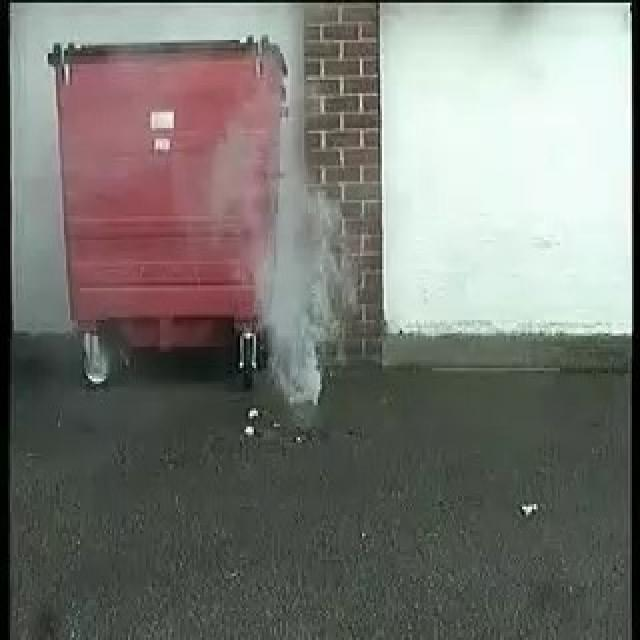smoke: (248, 130, 350, 404)
